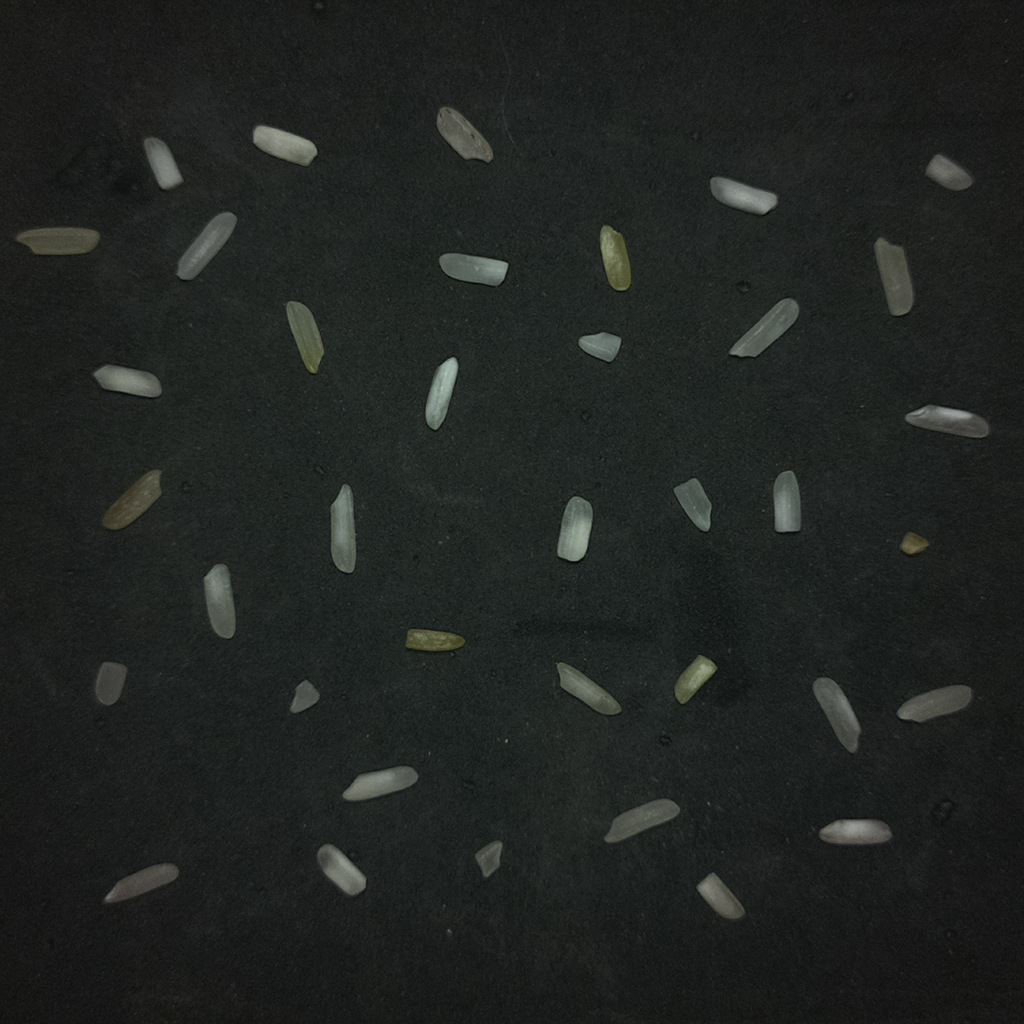broken: (436, 106, 492, 162), (439, 252, 508, 286), (697, 873, 744, 919), (673, 478, 712, 532), (773, 470, 801, 532), (925, 154, 972, 190), (94, 662, 126, 705), (578, 332, 622, 363), (289, 680, 320, 714), (474, 840, 502, 877)
chalky: (342, 765, 417, 801), (710, 176, 777, 215), (252, 125, 317, 165), (318, 844, 366, 895), (425, 356, 458, 429), (557, 496, 592, 561), (93, 364, 161, 397), (144, 137, 183, 189), (819, 819, 891, 844)
discolored: (102, 470, 161, 530), (286, 301, 323, 373), (15, 228, 99, 255), (674, 655, 716, 703), (600, 225, 630, 291), (405, 629, 464, 651), (900, 532, 928, 554)
whole: (176, 211, 236, 280), (729, 298, 798, 356), (812, 677, 860, 752), (556, 663, 620, 714), (604, 799, 679, 842), (874, 238, 913, 315), (104, 863, 178, 903), (904, 404, 989, 438), (897, 684, 972, 722), (204, 563, 235, 638), (330, 484, 355, 572)
